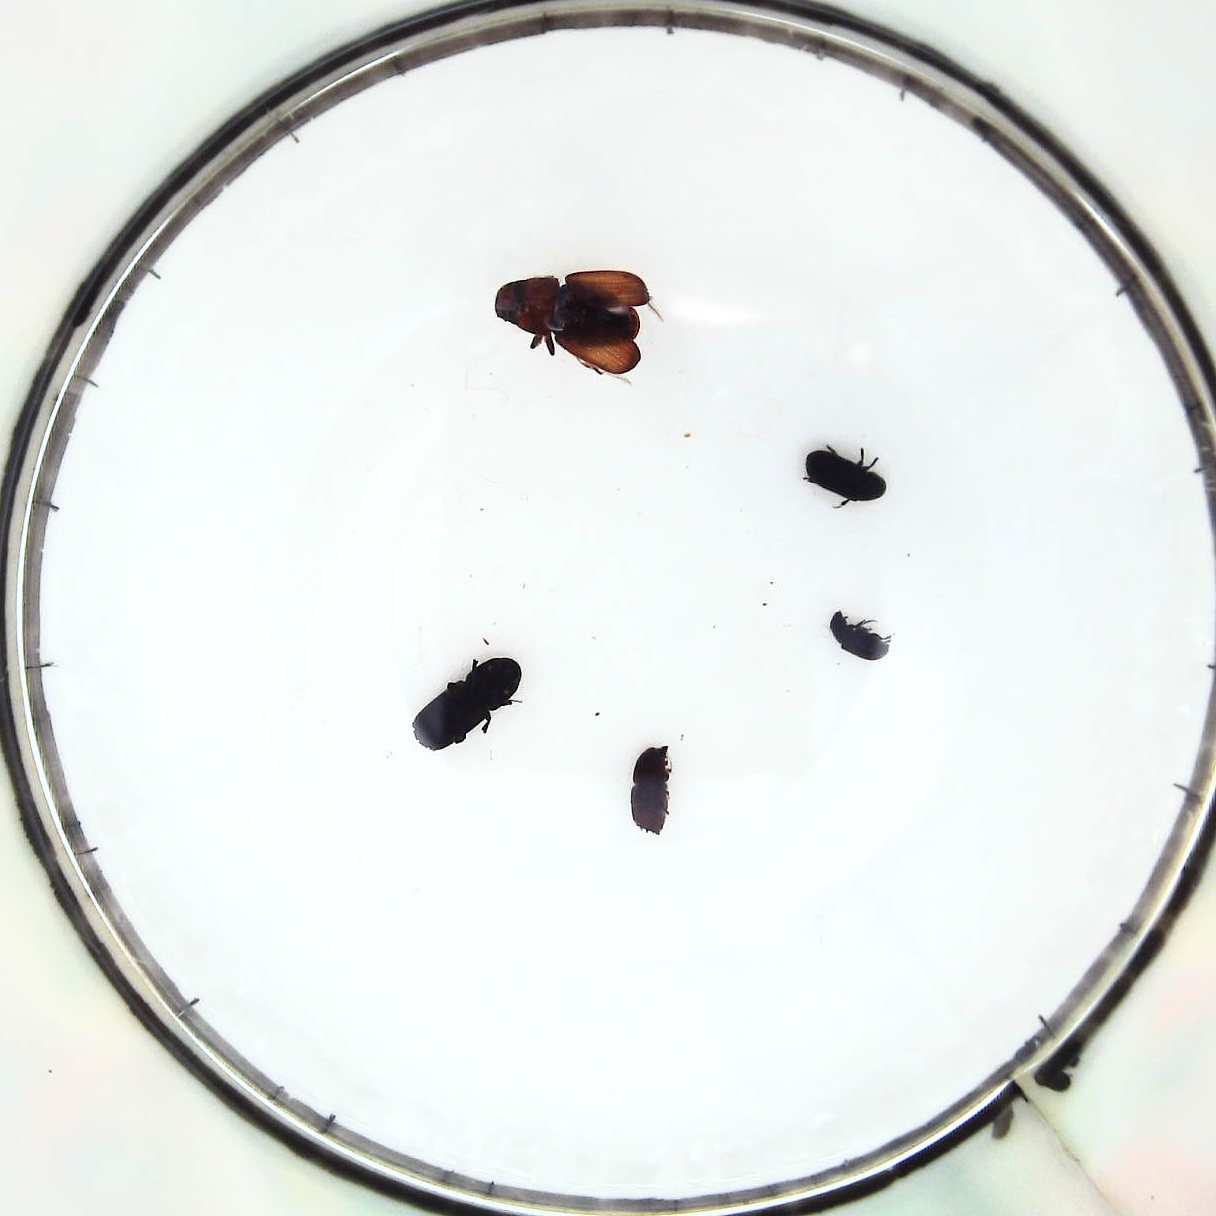Boerner: (418, 658, 518, 755)
Leconte: (491, 265, 653, 377)
Linnaeus: (620, 746, 681, 833)
armandi: (801, 443, 891, 504)
coleoptera: (830, 604, 891, 658)
